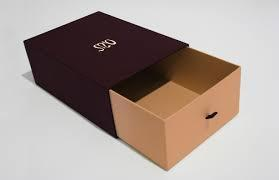box: (23, 10, 242, 174)
